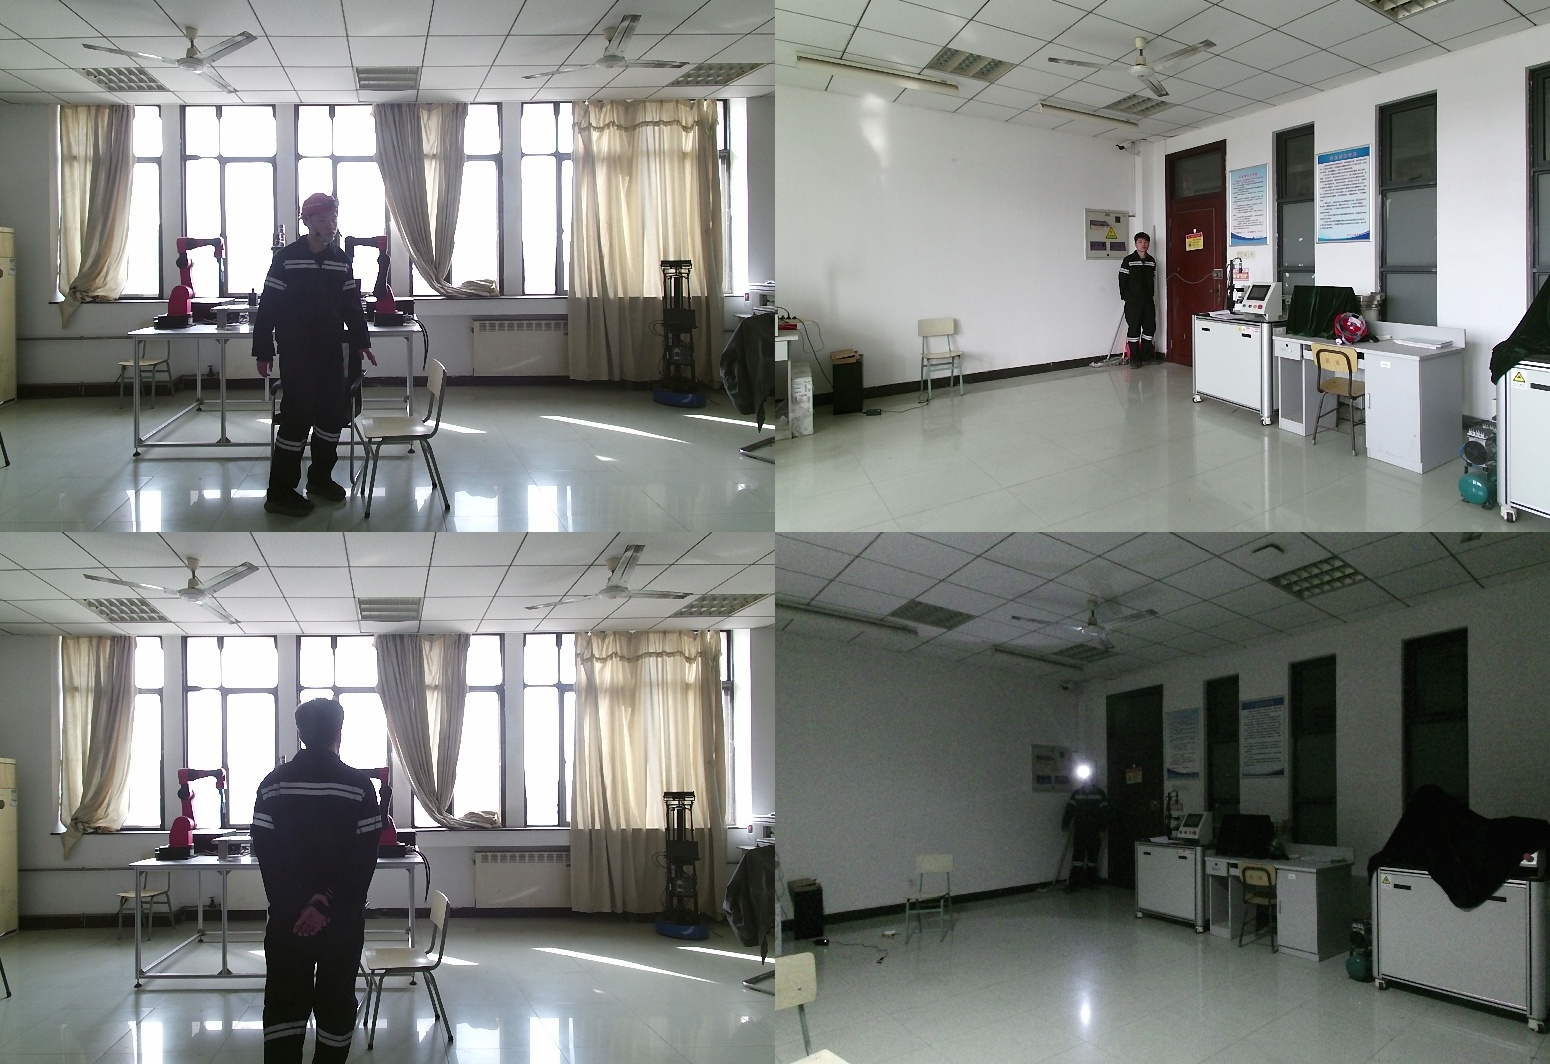person: (249, 699, 398, 1064), (256, 191, 388, 511), (1119, 232, 1160, 372), (1062, 769, 1108, 894)
